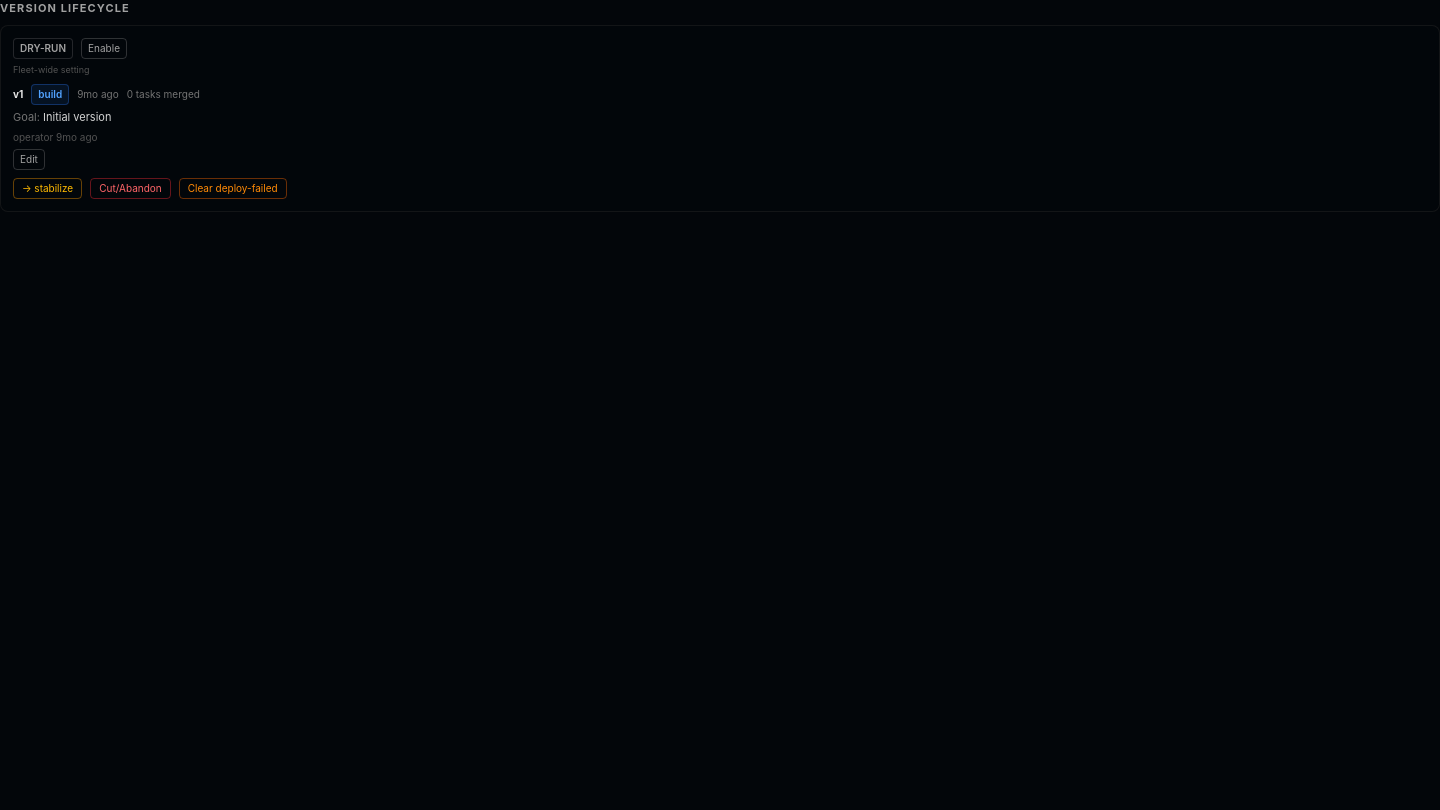
Test: VersionLifecyclePanel › clear deploy-failed lever › prompts for an attestation reason via dialog and force-clears when verify is refused
Click the button with test id "clear-deploy-failed": (233, 188) [179,178,287,198]
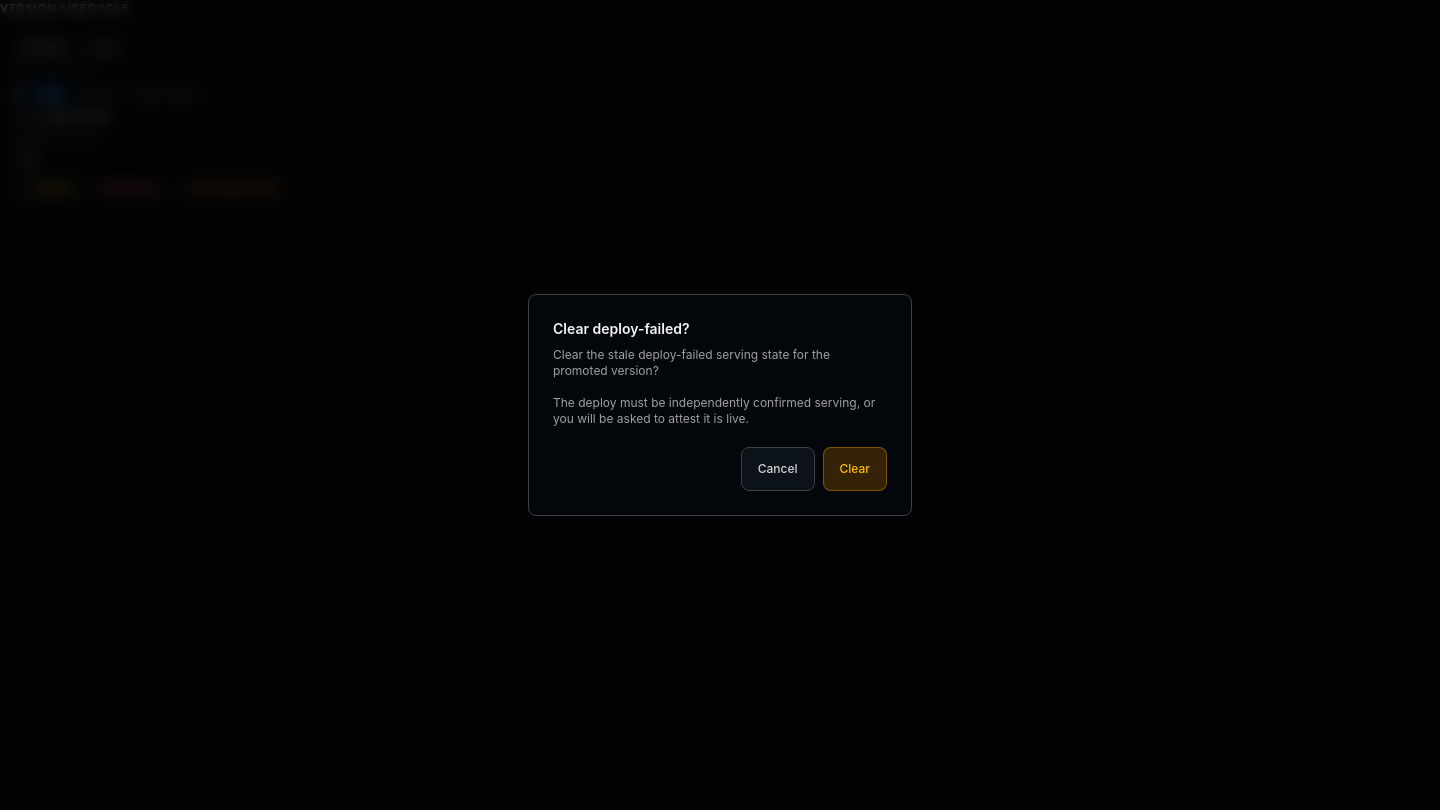
First dialog: plain confirm to attempt verify path
Click the button with test id "confirm-dialog-confirm": (855, 469) [822,447,887,491]
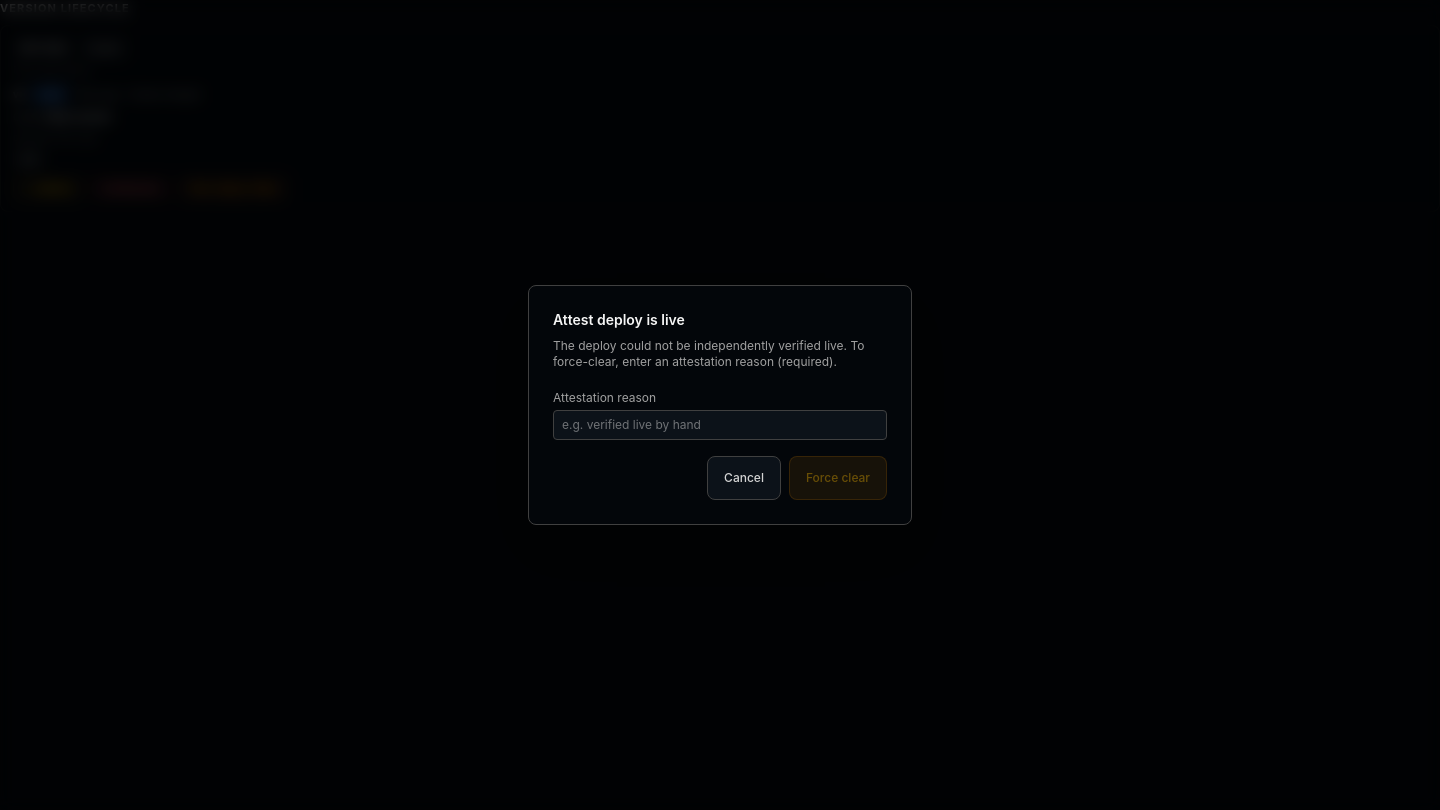
Expected: the field with test id "confirm-dialog-attestation-input" is shown
In the field with test id "confirm-dialog-attestation-input": (720, 425) [553,410,887,440], type "verified live by hand"
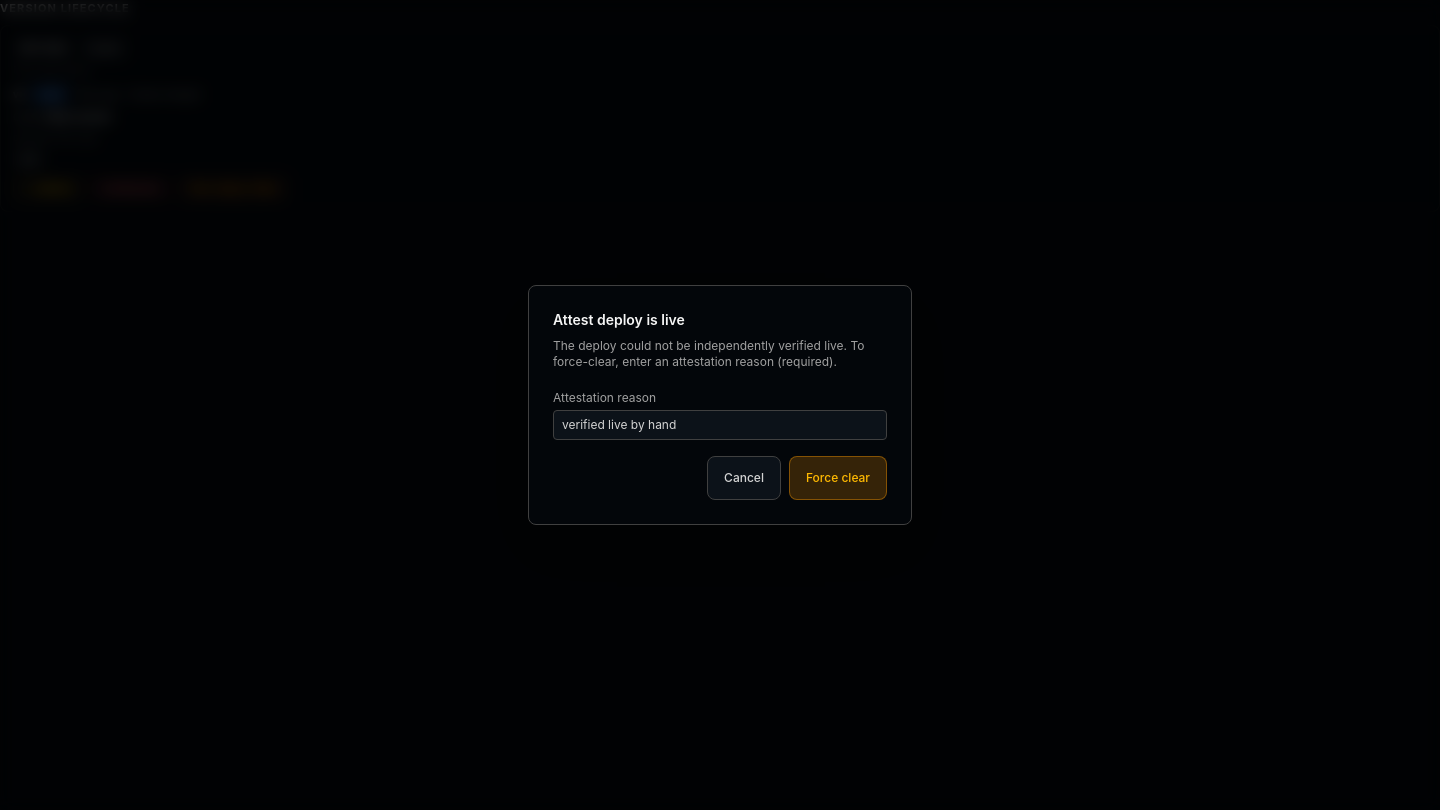
Click the button with test id "confirm-dialog-confirm": (838, 478) [789,456,887,500]
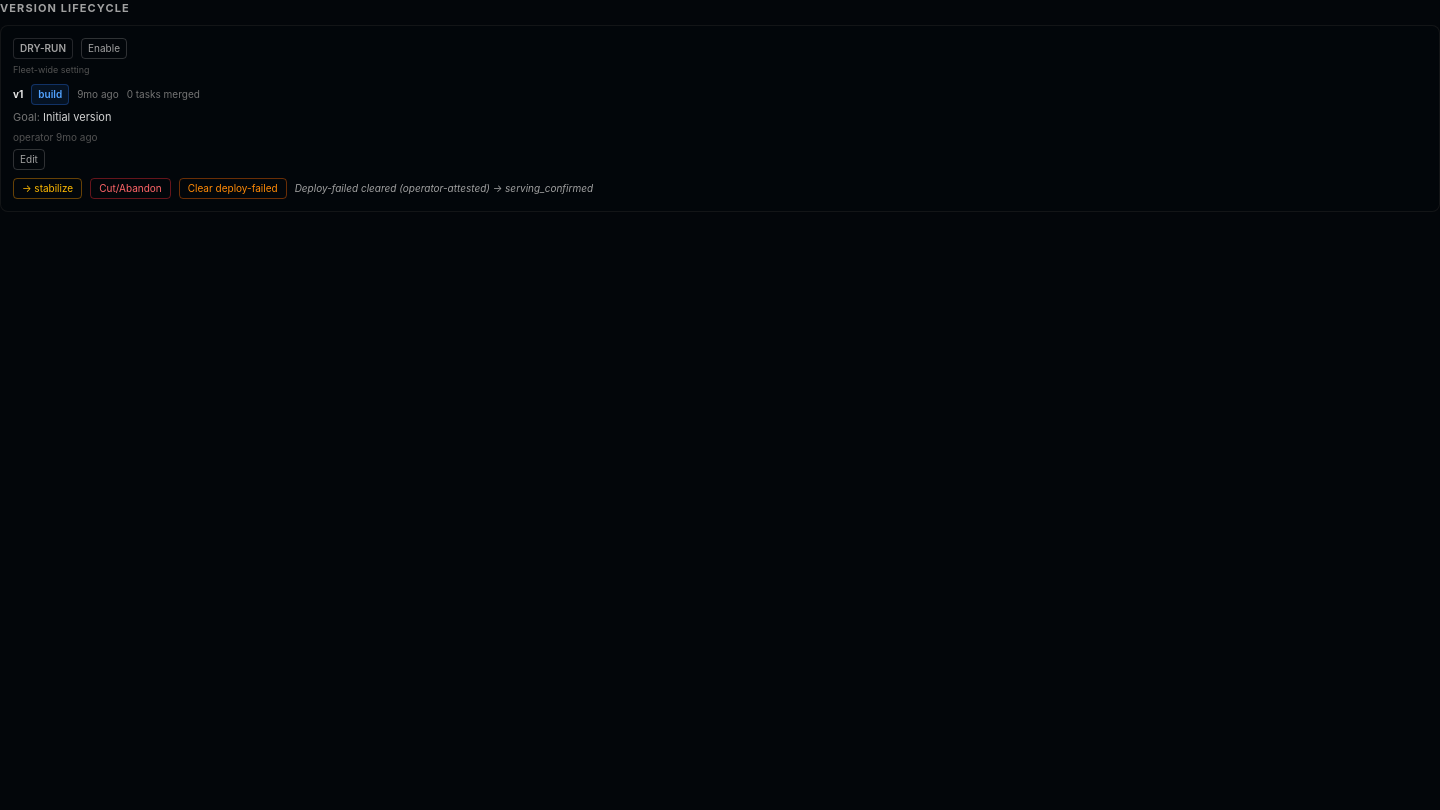
Expected: the text "operator-attested" is shown, [295,182,593,194]
